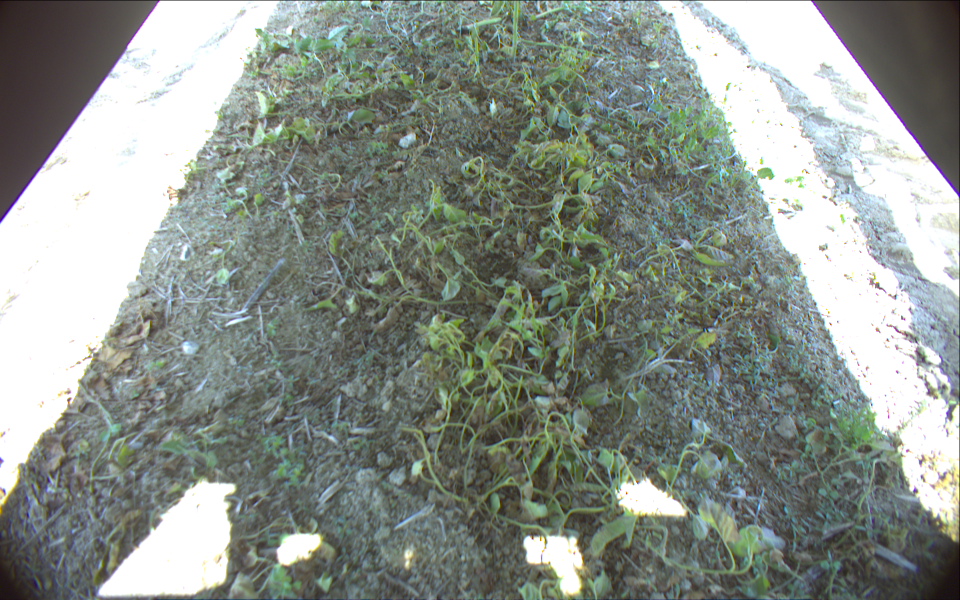aspa: (502, 35, 631, 59), (532, 1, 597, 20), (464, 16, 504, 28), (510, 1, 519, 54)
